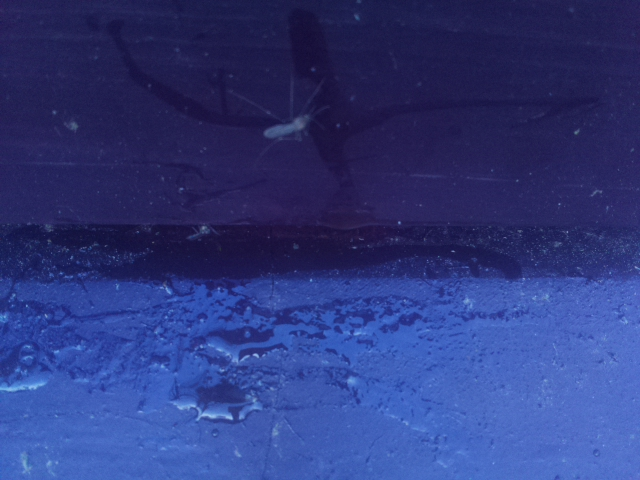ant: (259, 101, 328, 143)
